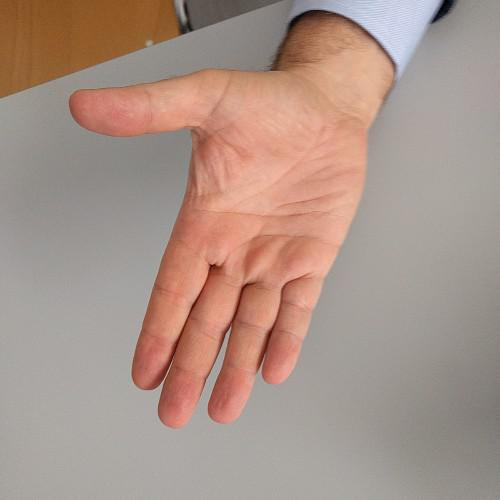paper: (61, 9, 379, 427)
